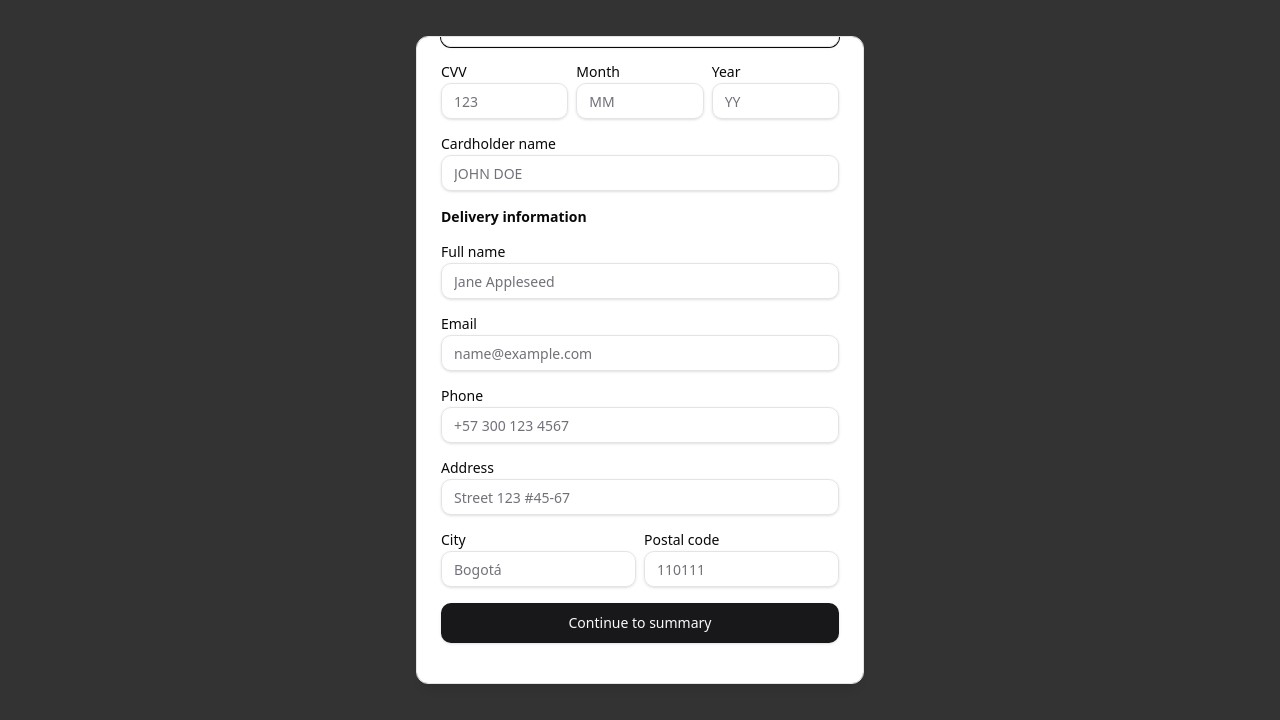
Test case: CardDeliveryDialog › keeps the button enabled after an empty submit and shows the error summary
The image size is (1280, 720).
(page scrolled)
What coordinates should you click on to do the following:
click the button "Continue to summary"
I would click on:
 (640, 623)
Its box is [441,603,839,643].
(page scrolled)
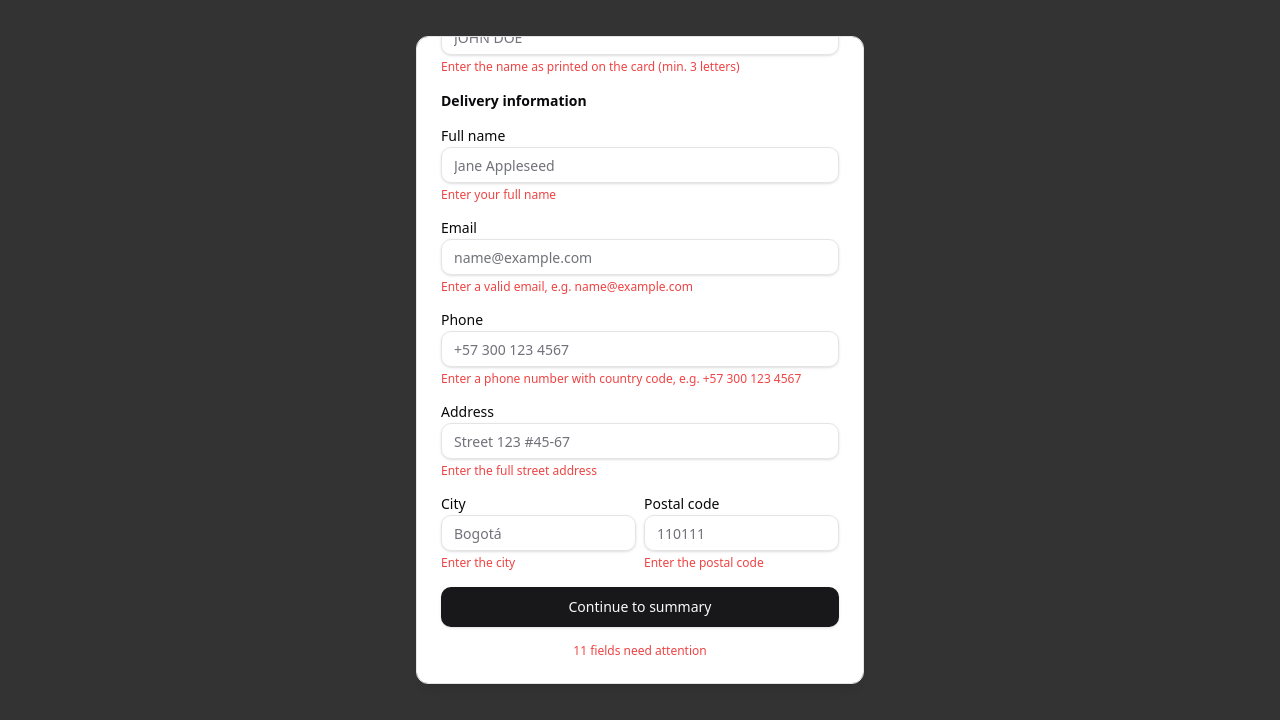
Expected: the button "Continue to summary" is enabled, [441,587,839,627]
Now the text "11 fields need attention" is shown, box [573,642,707,659]
